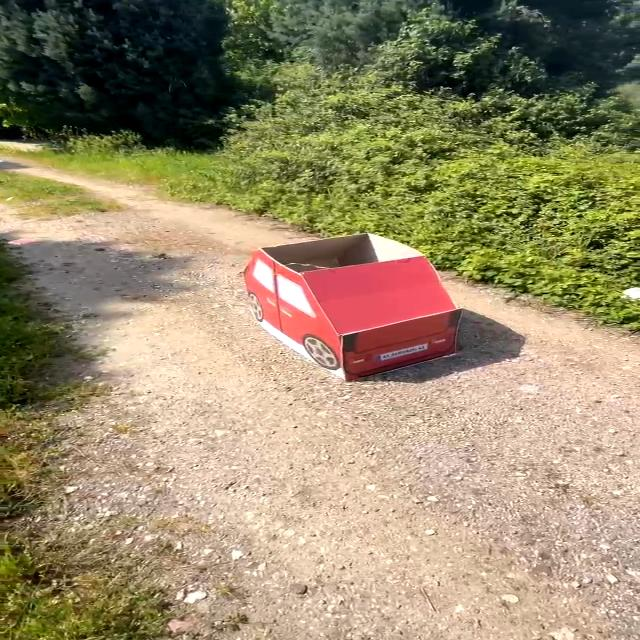red_car: (199, 230, 509, 404)
